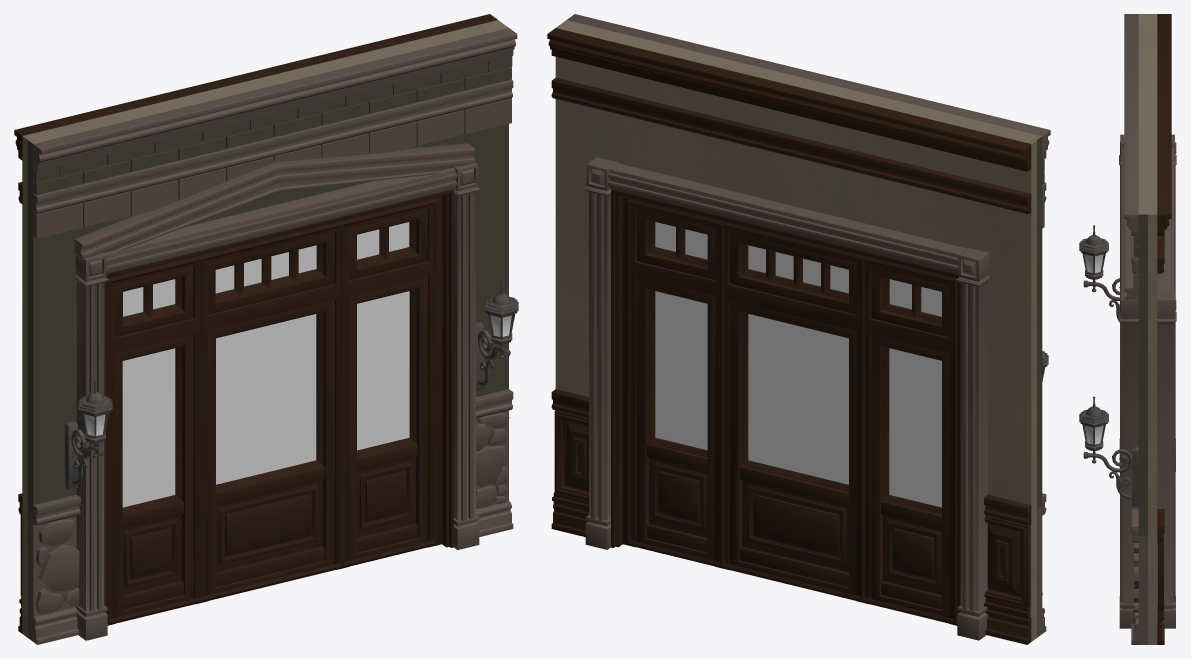
Rendered from SK5 DOOR 2.fbx.
3 renders of one model, left to right at view 1: azimuth 30°, elevation 25°; view 2: azimuth 150°, elevation 25°; view 3: azimuth 270°, elevation 25°, orthographic. The views are drawn at different scales.
Visible parts, largest first — view 1: SK5 DOOR 2; view 2: SK5 DOOR 2; view 3: SK5 DOOR 2.
Part boxes in pixels (left/top/right/bottom): SK5 DOOR 2: left=14, top=14, right=518, bottom=644; SK5 DOOR 2: left=547, top=14, right=1050, bottom=644; SK5 DOOR 2: left=1079, top=14, right=1176, bottom=644.
Bounding box in the file's own units: 400 × 401 × 81.92.
